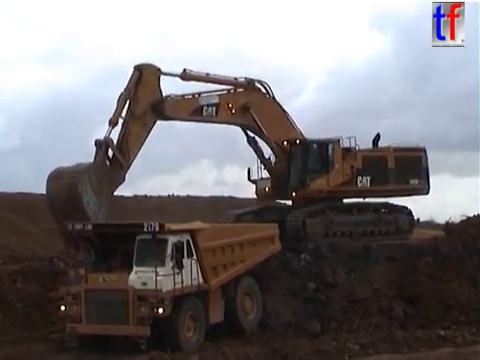excavator: (42, 59, 433, 258)
truck: (47, 217, 284, 355)
